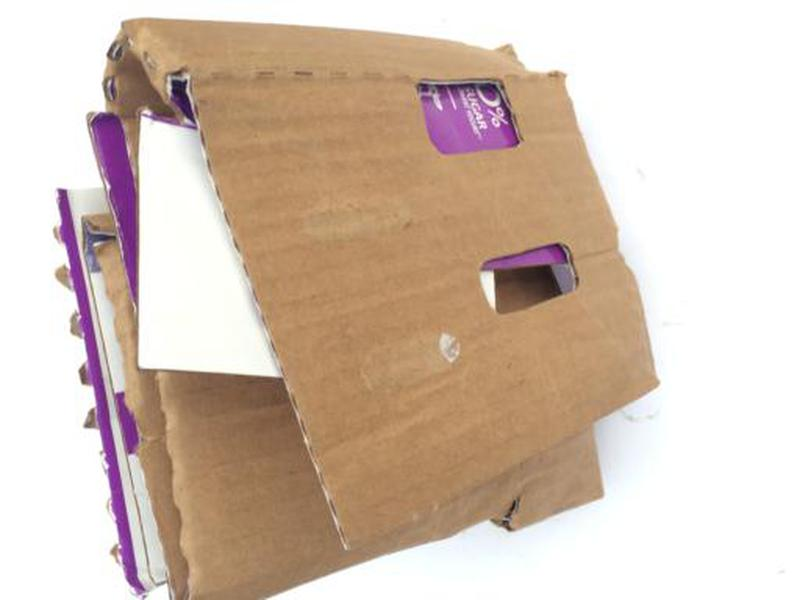cardboard: (42, 10, 667, 600)
